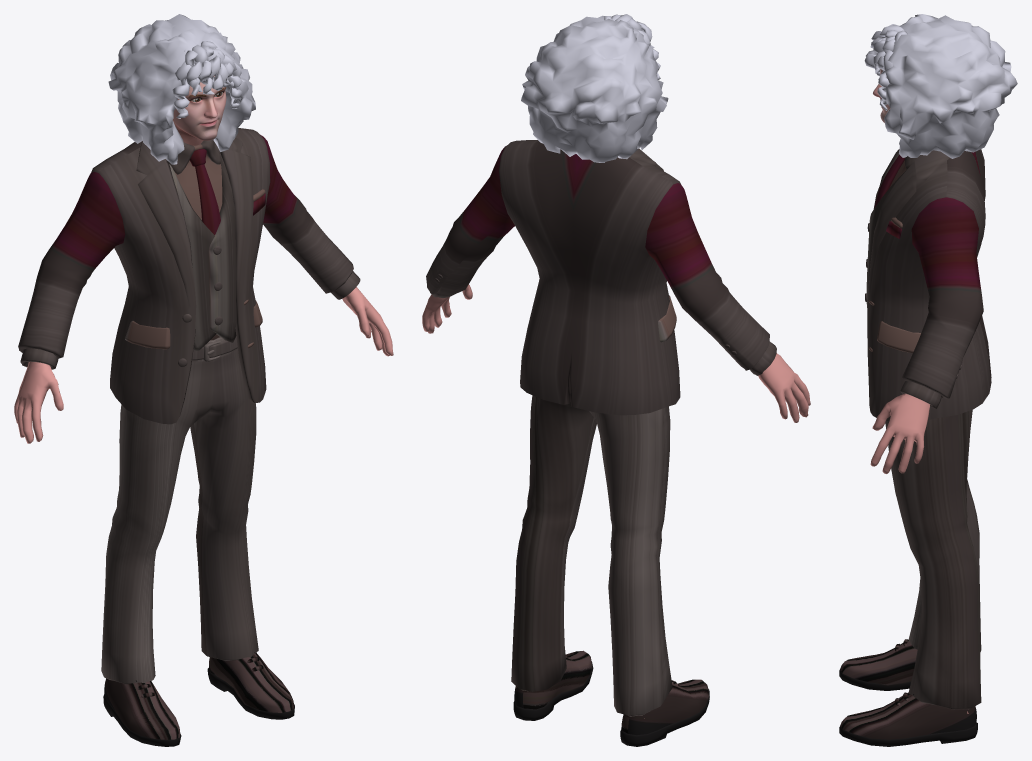
Rendered from newton new.fbx.
3 renders of one model, left to right at view 1: azimuth 30°, elevation 25°; view 2: azimuth 150°, elevation 25°; view 3: azimuth 270°, elevation 25°, orthographic. The views are drawn at different scales.
Parts seen in each view (by area): view 1: Wolf3D_Outfit_Top, Wolf3D_Outfit_Bottom, Wolf3D_Hair, Wolf3D_Outfit_Footwear, Wolf3D_Body, Wolf3D_Head; view 2: Wolf3D_Outfit_Top, Wolf3D_Outfit_Bottom, Wolf3D_Hair, Wolf3D_Outfit_Footwear, Wolf3D_Body; view 3: Wolf3D_Outfit_Top, Wolf3D_Outfit_Bottom, Wolf3D_Hair, Wolf3D_Outfit_Footwear, Wolf3D_Body.
Boxes of the visible parts, bbox=[...] form: Wolf3D_Outfit_Top: bbox=[18, 128, 360, 424]; Wolf3D_Outfit_Bottom: bbox=[101, 336, 258, 684]; Wolf3D_Hair: bbox=[108, 14, 255, 164]; Wolf3D_Outfit_Footwear: bbox=[103, 652, 294, 746]; Wolf3D_Body: bbox=[14, 287, 393, 443]; Wolf3D_Head: bbox=[173, 76, 226, 145]; Wolf3D_Outfit_Top: bbox=[426, 140, 776, 415]; Wolf3D_Outfit_Bottom: bbox=[511, 395, 672, 716]; Wolf3D_Hair: bbox=[521, 14, 668, 162]; Wolf3D_Outfit_Footwear: bbox=[513, 650, 709, 746]; Wolf3D_Body: bbox=[422, 284, 810, 718]; Wolf3D_Outfit_Top: bbox=[865, 149, 991, 421]; Wolf3D_Outfit_Bottom: bbox=[885, 409, 981, 709]; Wolf3D_Hair: bbox=[864, 14, 1017, 158]; Wolf3D_Outfit_Footwear: bbox=[839, 639, 977, 746]; Wolf3D_Body: bbox=[870, 393, 968, 713].
Size of the model in its own units: 1.06 by 1.88 by 0.4423.
8 materials, 8 textured.
